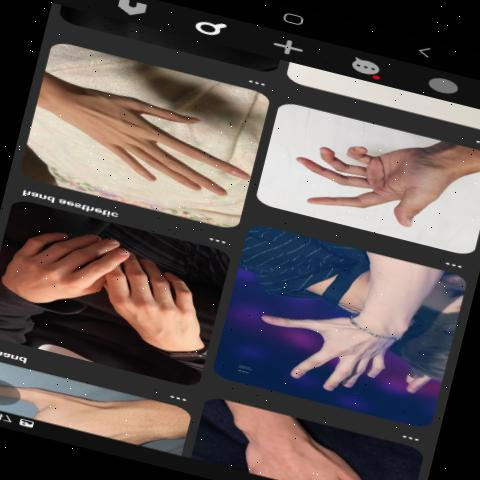Hands: (77, 80, 262, 195), (254, 284, 431, 404), (290, 125, 480, 230), (94, 258, 240, 354), (4, 223, 139, 324)
